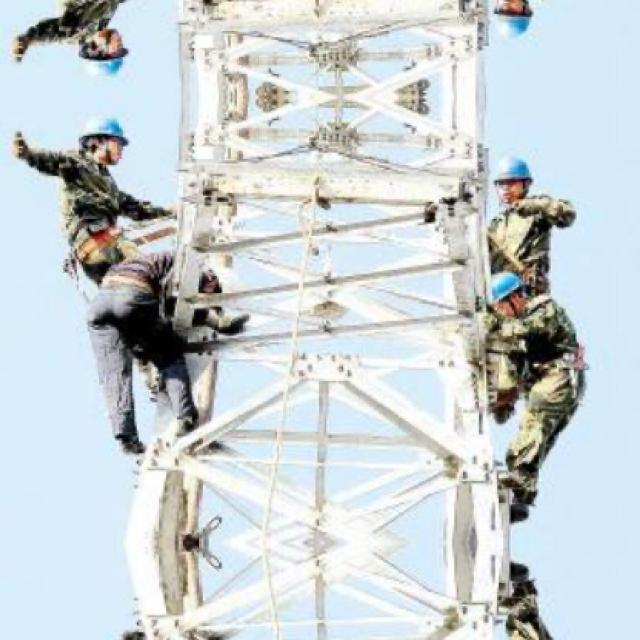helmet: (77, 23, 134, 82), (77, 113, 134, 171), (494, 151, 535, 208), (488, 267, 529, 322), (494, 0, 537, 45)
